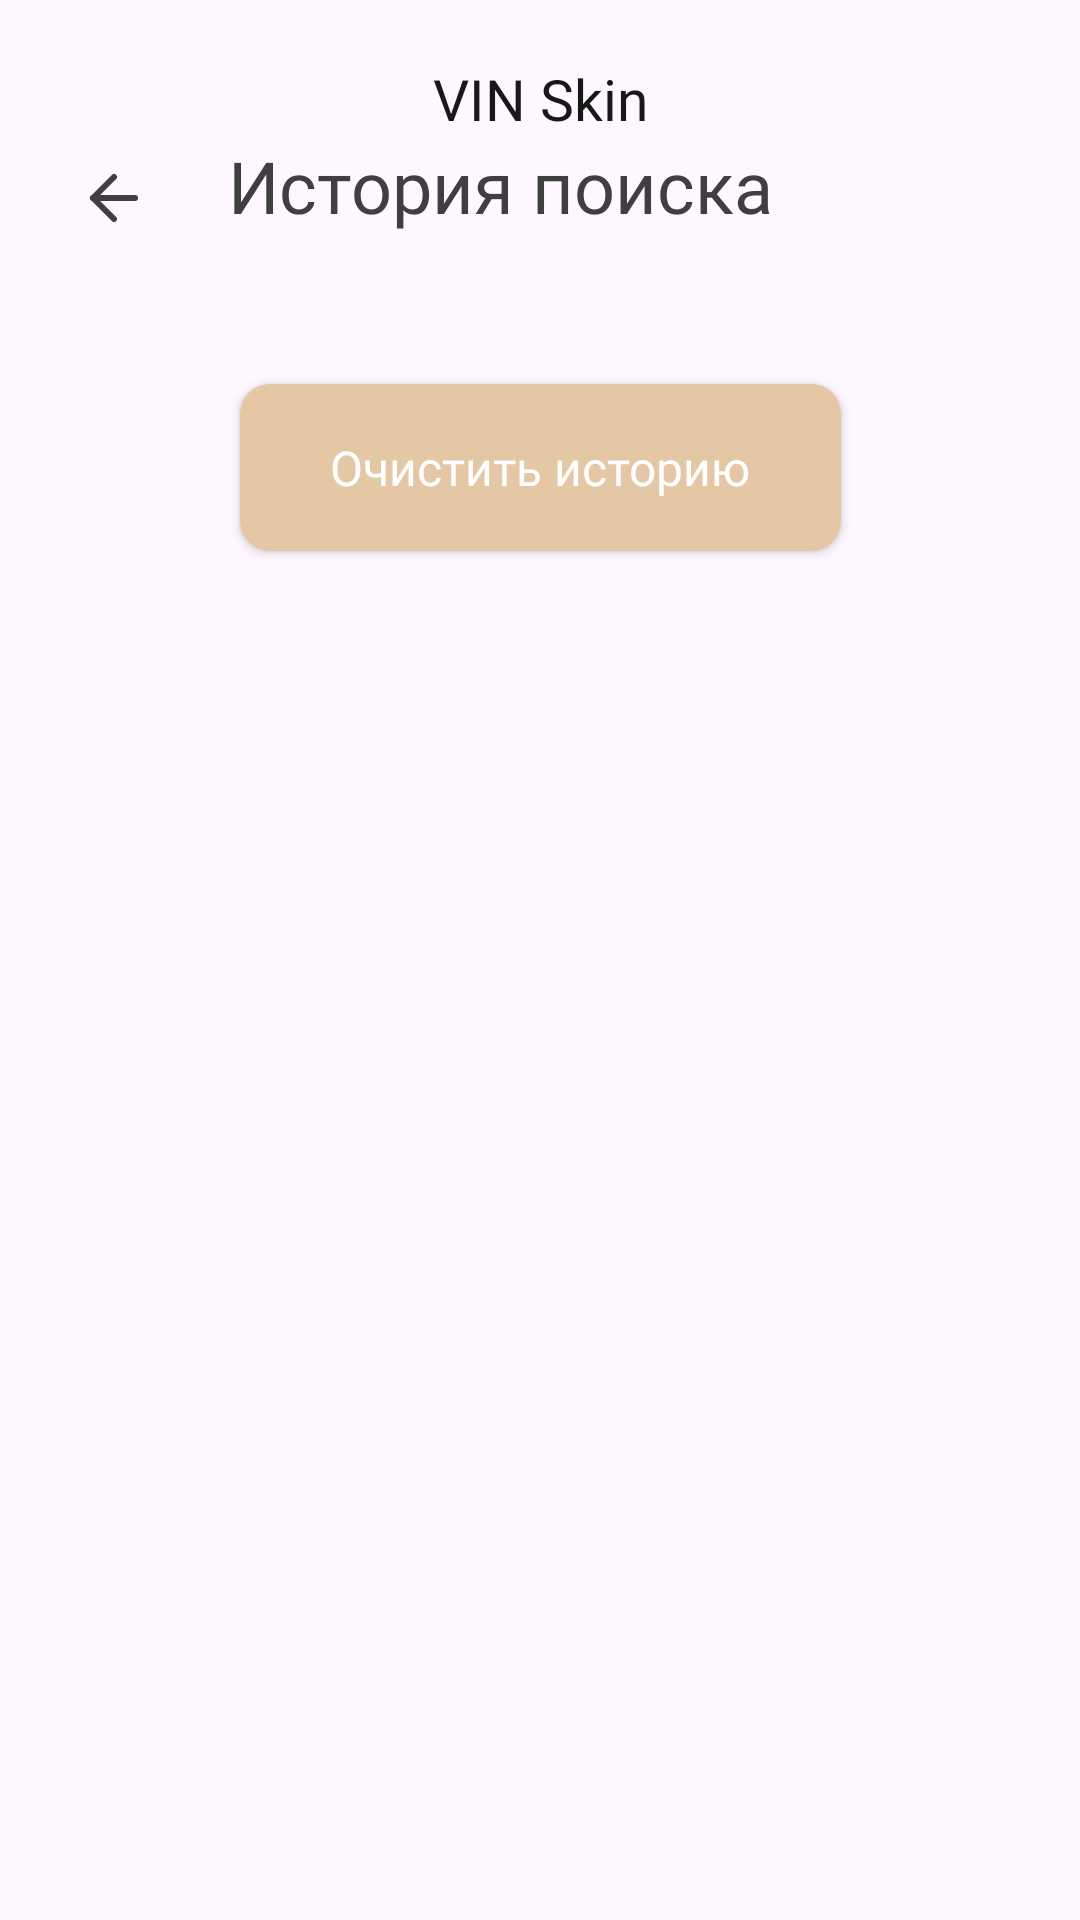

Locate icon controls on the screen. Image size 1080×1920, boxes as (x1, y1, x2, y2).
back arrow: (90, 174, 138, 222)
